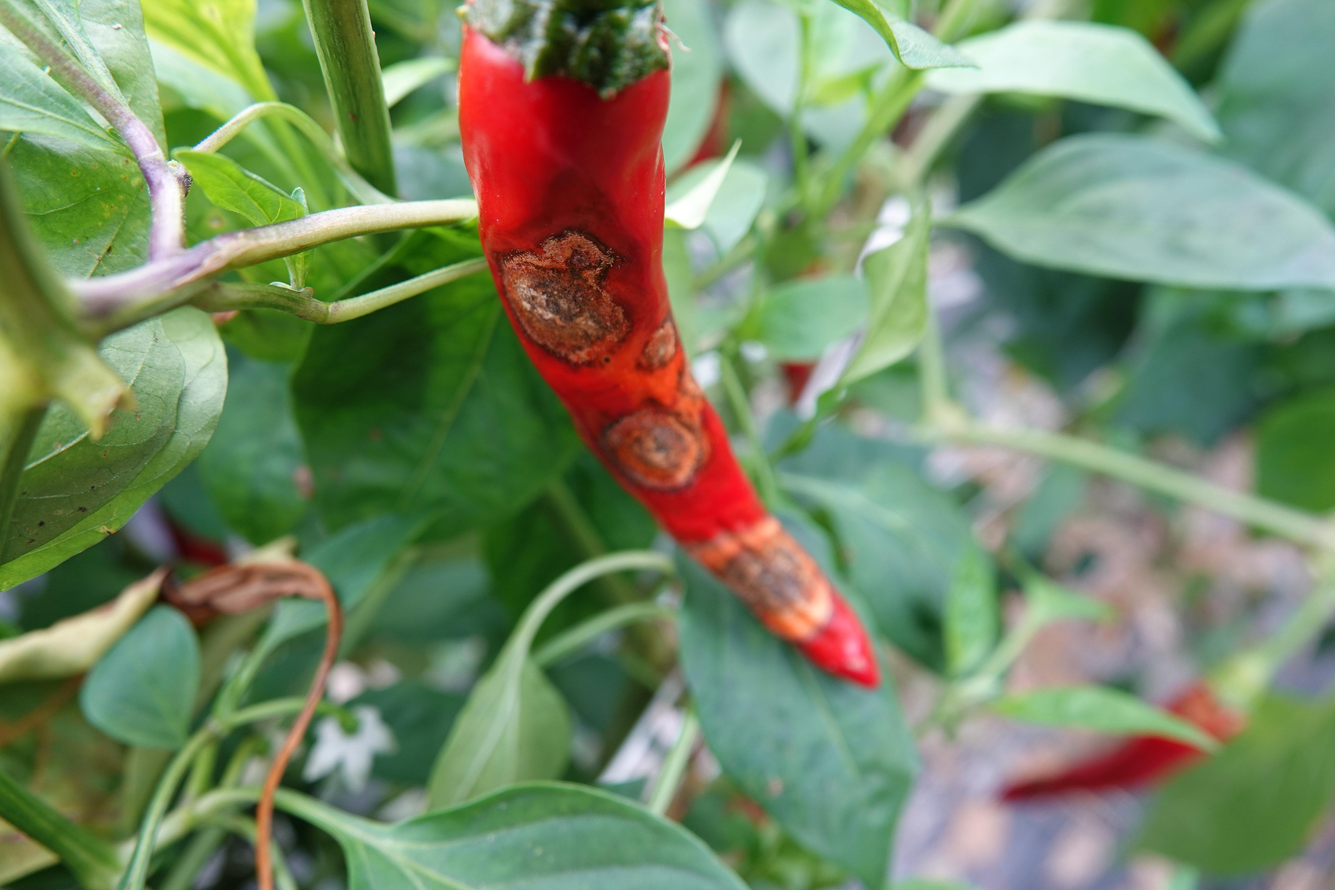Busuk Buah Antraknosa: (451, 1, 883, 691)
